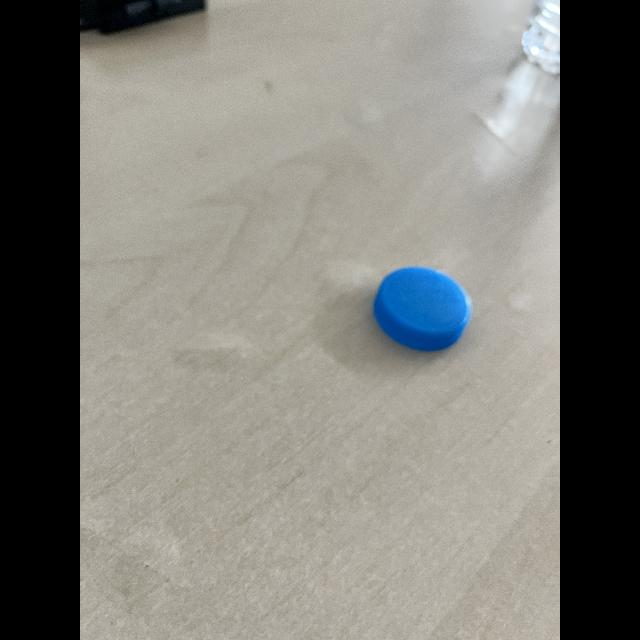plastic_bottle_cap: (368, 258, 480, 354)
